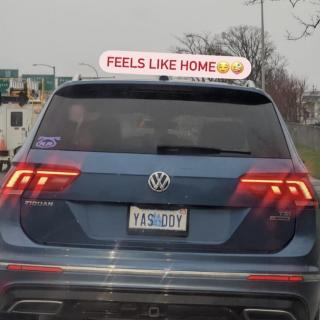license: (127, 204, 191, 238)
